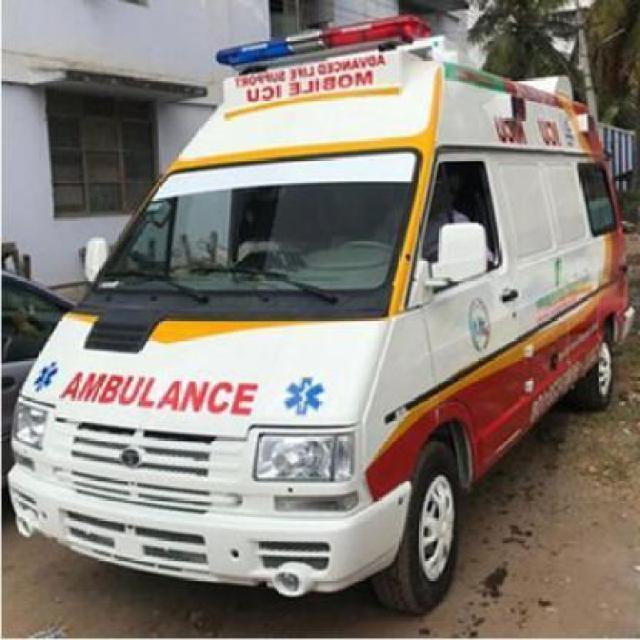emergency: (5, 13, 635, 614)
